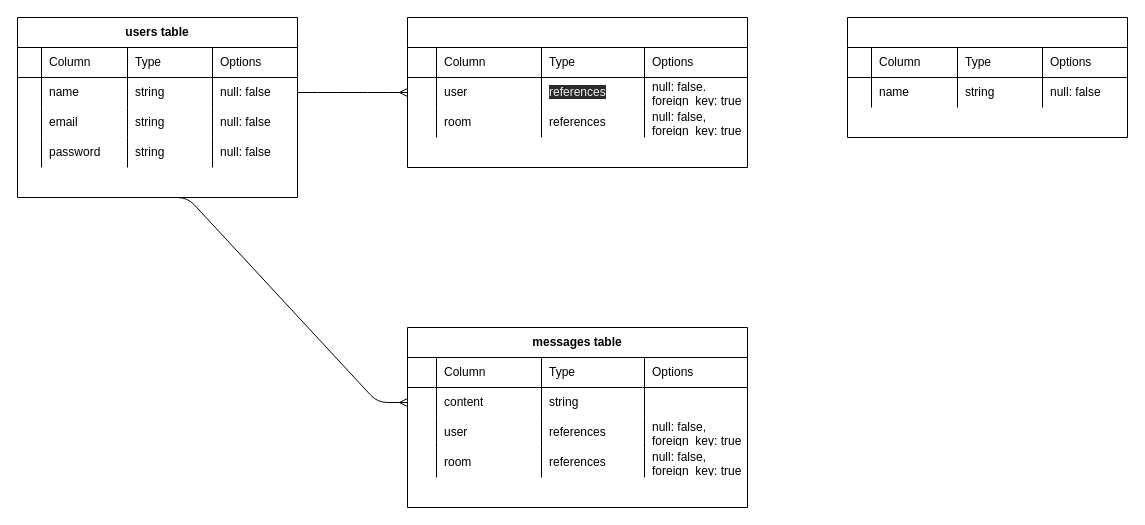
The diagram is 1145 pixels wide and 525 high, and some of its shapes have lost their labels. The shapes that lost their labels are listed below. From the top down, each one's box as (x1, y1, x2, y2) in pixels, then its label:
(406, 16, 748, 168): rooom_users table
(846, 16, 1128, 138): rooms table
